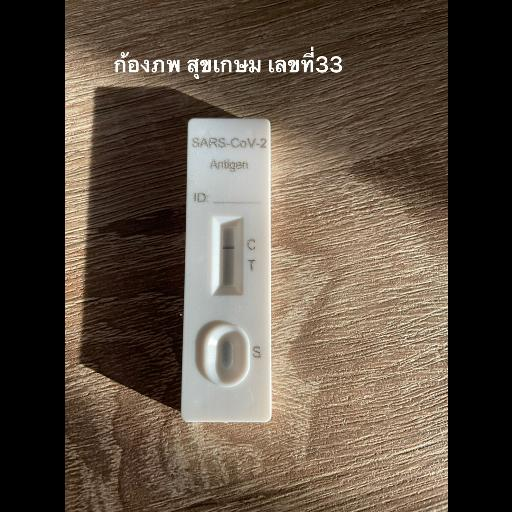Neg: (186, 117, 272, 419)
